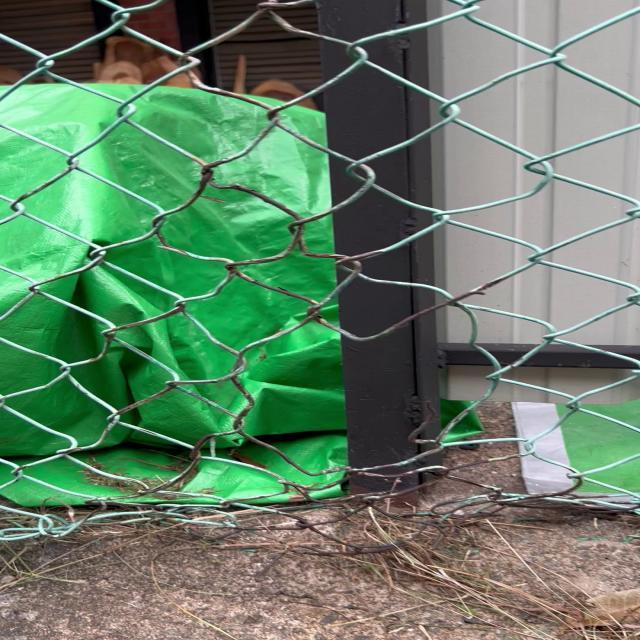fence line: (226, 304, 513, 475)
